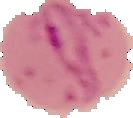parasitized: (8, 2, 123, 114), (40, 1, 109, 104)
